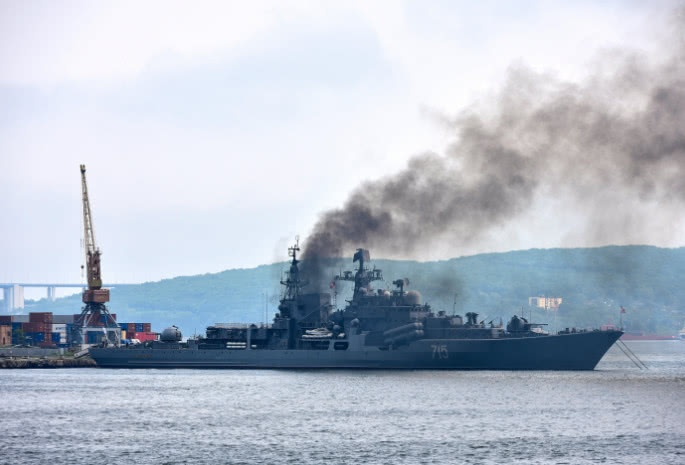Cargoship: (2, 284, 200, 356)
warship: (93, 245, 637, 374)
